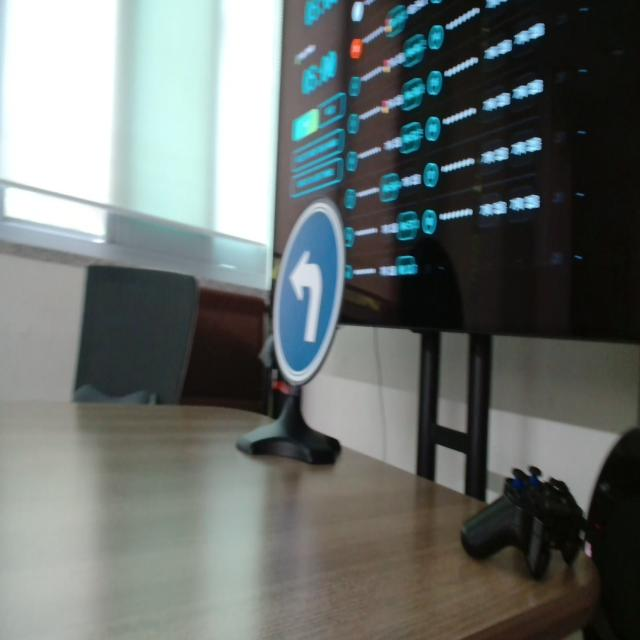left_direction: (270, 195, 345, 381)
